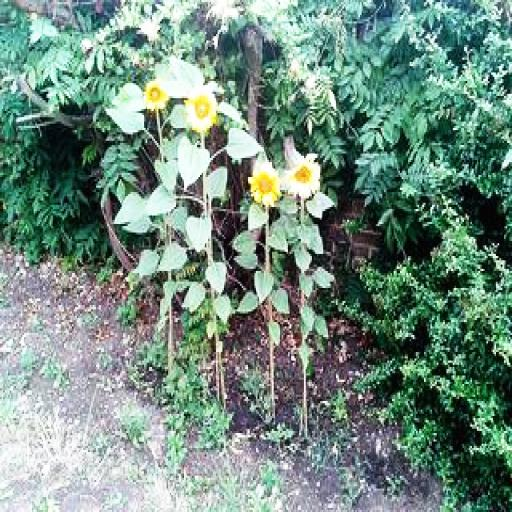sunflower: (186, 83, 218, 130), (245, 160, 278, 203), (290, 154, 320, 194), (141, 81, 165, 109)
